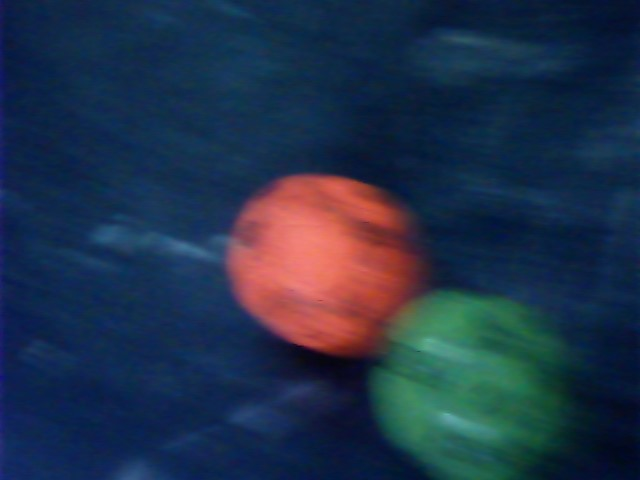Green_ball: (374, 285, 574, 480)
Orange_ball: (229, 158, 425, 348)
